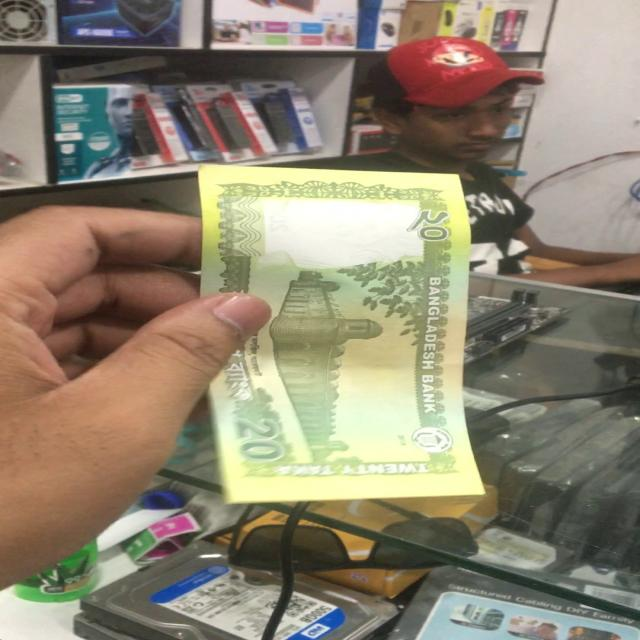Taka: (193, 163, 486, 500)
